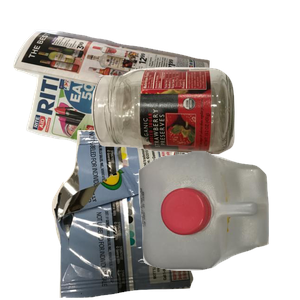glass: (89, 65, 300, 212)
paper: (11, 27, 213, 185)
plastic: (136, 149, 300, 300)
trash: (49, 130, 235, 300)
